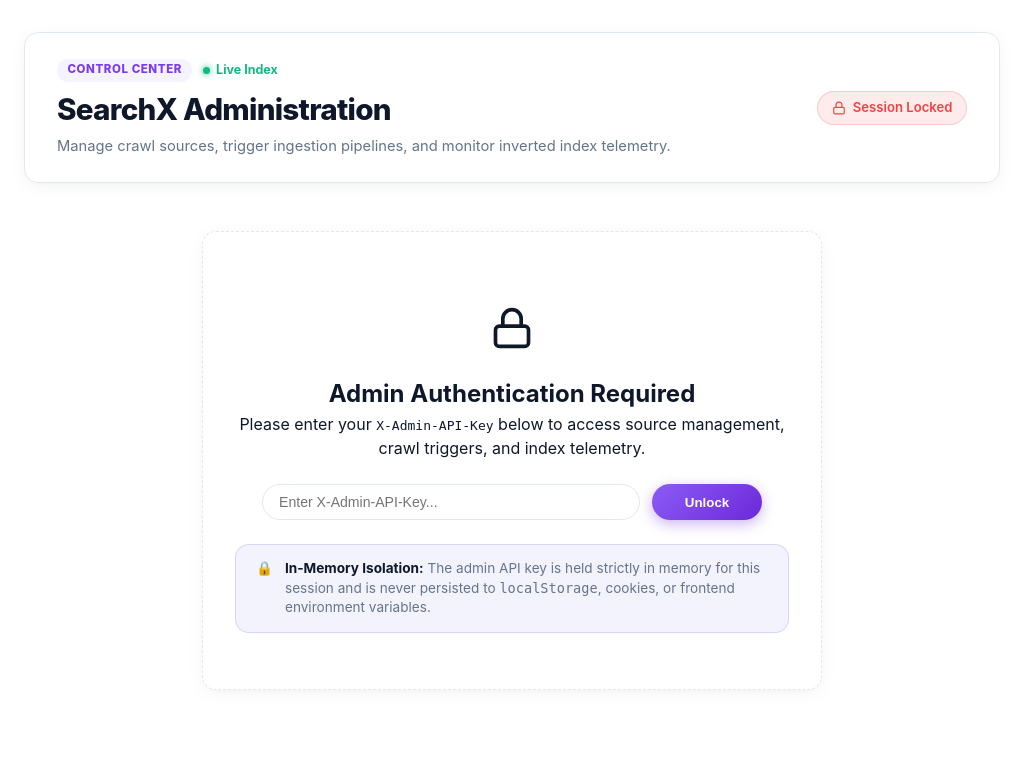
Test: AdminDashboard Component › unlocks dashboard and lists sources when valid API key is entered
This screenshot has width=1024, height=768.
Type "searchx-admin-secret" into the password field with placeholder "Enter X-Admin-API-Key..." at (451, 502), box [262,484,640,520]
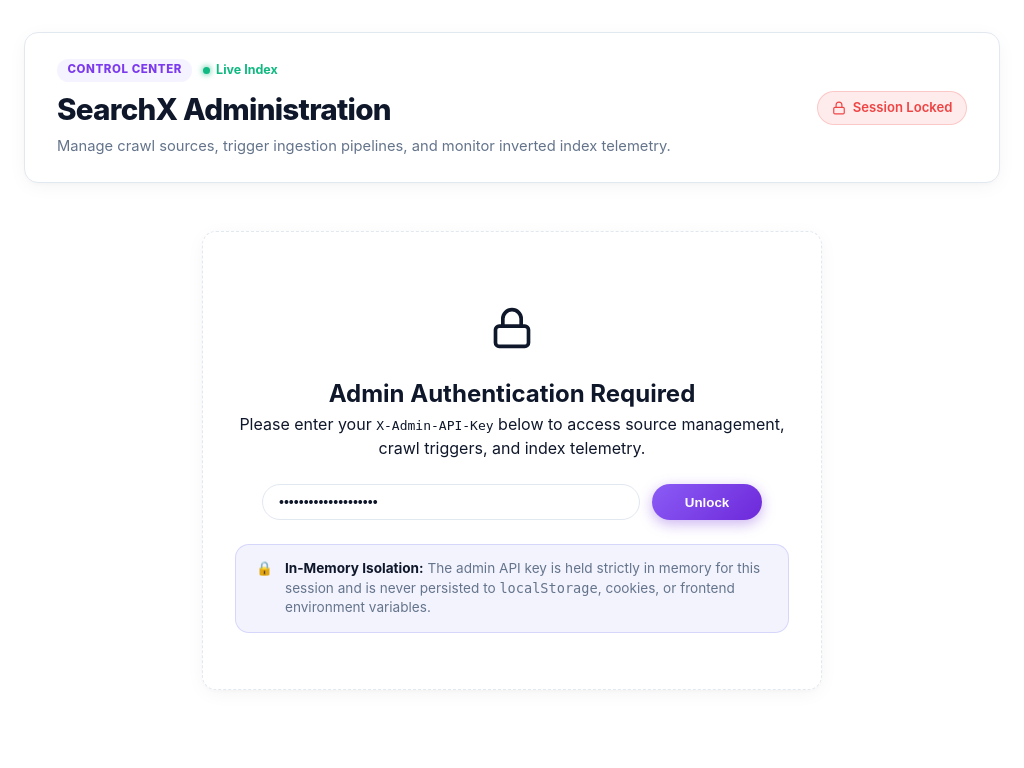
Click the button "Unlock" at (707, 502), box [652,484,762,520]
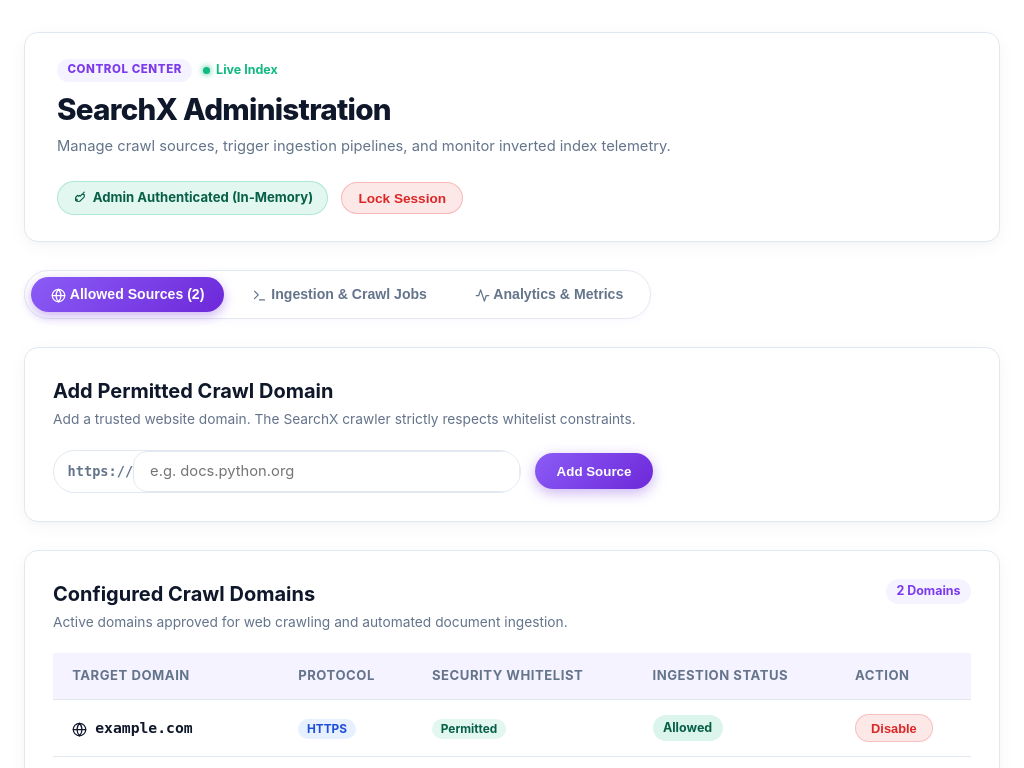
Expected: the text "example.com" is shown, [95,717,193,739]
Expected: the button "Allowed Sources (2)" is shown, [31,277,224,312]
